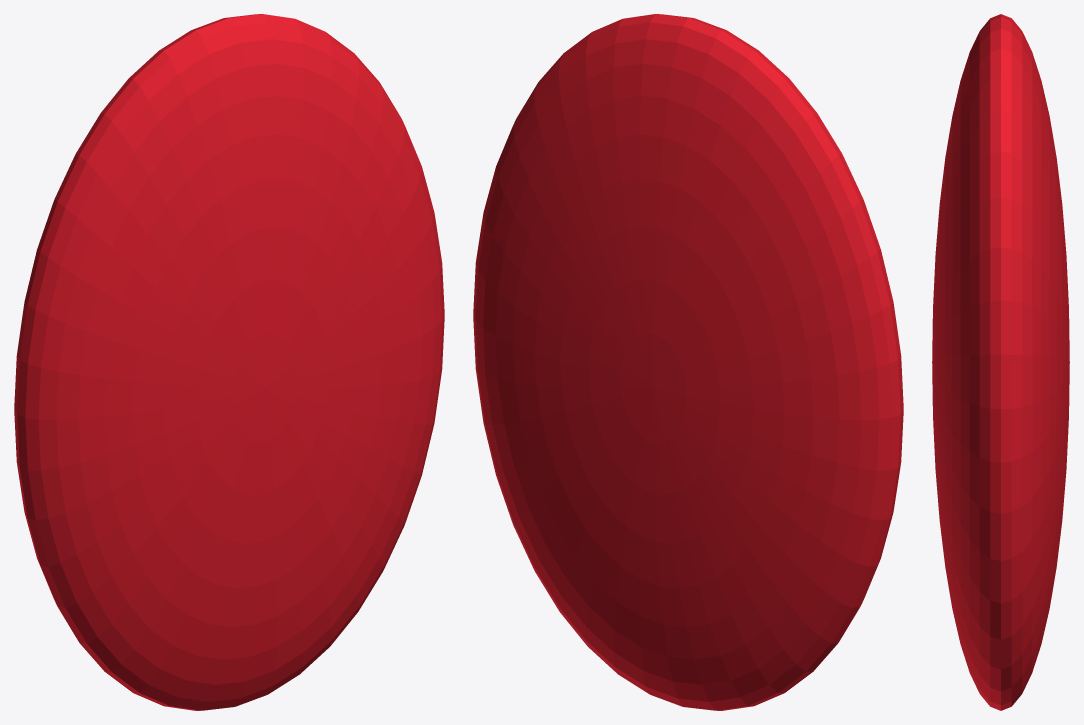
Rendered from tinker.obj.
The picture shows the model from 3 angles, left to right: view 1: azimuth 30°, elevation 25°; view 2: azimuth 150°, elevation 25°; view 3: azimuth 270°, elevation 25°; orthographic projection. The views are drawn at different scales.
Visible parts, largest first — view 1: obj_0; view 2: obj_0; view 3: obj_0.
Part boxes in pixels (x1,y1,x2,y2): obj_0: (14, 14, 444, 710); obj_0: (473, 14, 903, 710); obj_0: (932, 14, 1069, 710).
Size of the model in its own units: 69 by 107 by 20.
